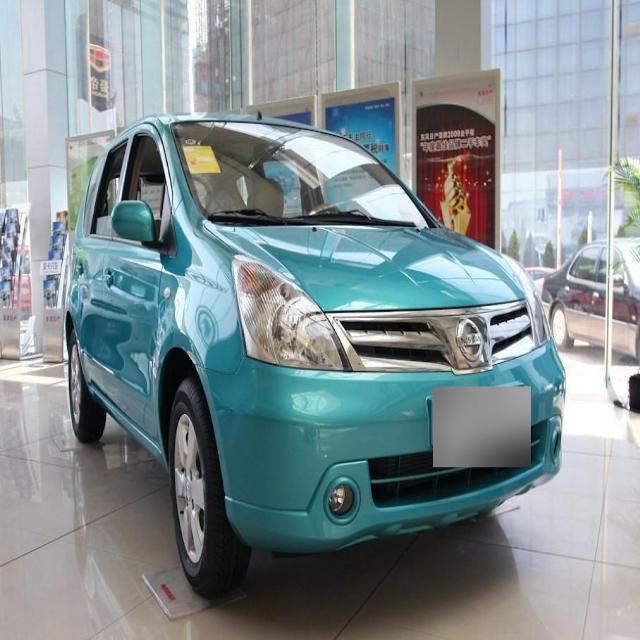front_bumper: (197, 334, 567, 558)
front_glass: (172, 119, 430, 231)
front_right_side_door: (97, 119, 169, 446)
front_right_side_light: (232, 251, 346, 375)
front_right_side_mirror: (114, 200, 158, 252)
wheel: (169, 376, 239, 600), (69, 338, 100, 444)
